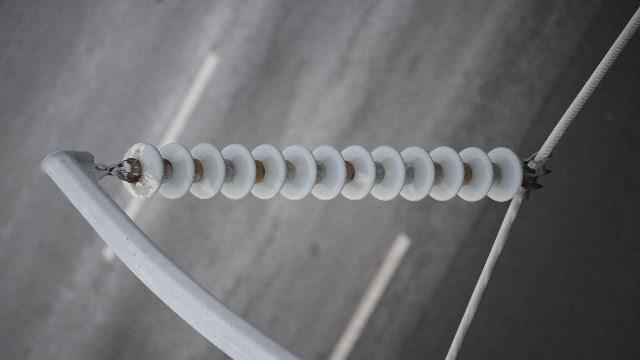insulator_unspecified: (123, 141, 525, 204)
pollution_flashover_local: (130, 172, 157, 198), (126, 142, 148, 162), (196, 177, 214, 197), (352, 172, 370, 185), (231, 177, 245, 191)
